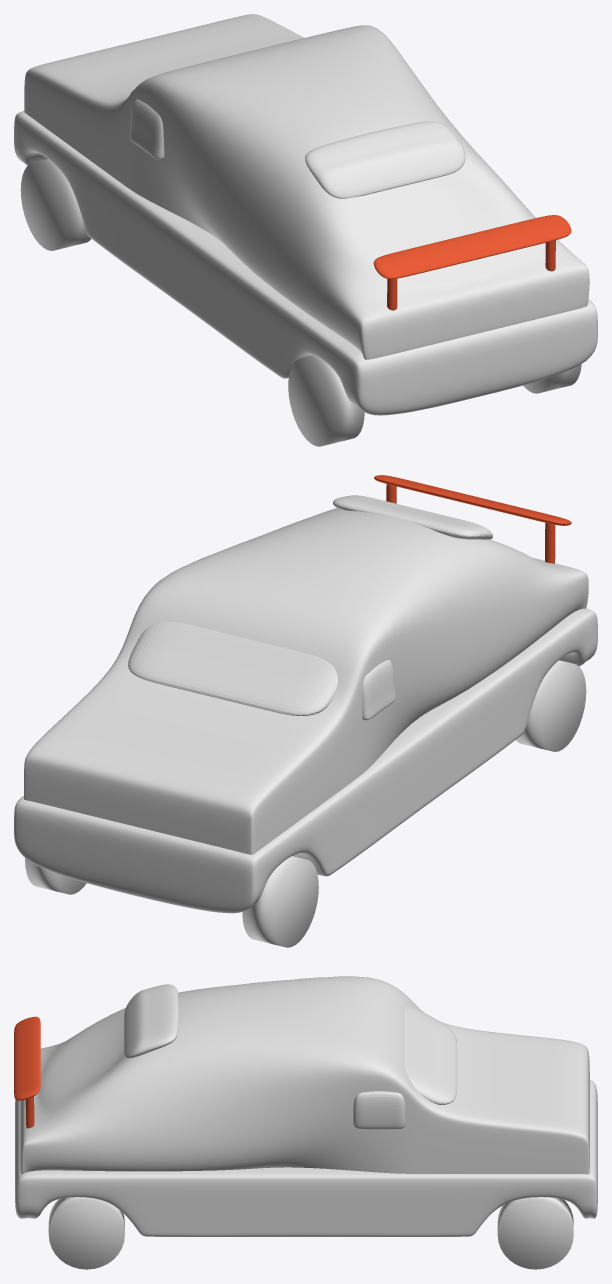
The model's file is Car3.fbx.
3 renders of one model, top to bottom at view 1: azimuth 30°, elevation 25°; view 2: azimuth 150°, elevation 25°; view 3: azimuth 270°, elevation 25°, orthographic. The views are drawn at different scales.
Visible parts, largest first — view 1: Cube, Cube.001, Cube.007, Cube.010, Cylinder.004, Cylinder.001, Cube.003, Cylinder.002; view 2: Cube, Cube.001, Cube.005, Cylinder.001, Cylinder.004, Cube.007, Cube.010, Cube.003, Cylinder.003; view 3: Cube, Cube.001, Cylinder.003, Cylinder.002, Cube.005, Cube.007, Cube.010, Cube.004.
Part boxes in pixels (x1=…): Cube: x1=24, y1=14, x2=589, y2=359; Cube.001: x1=14, y1=111, x2=597, y2=415; Cube.007: x1=305, y1=121, x2=465, y2=198; Cube.010: x1=373, y1=215, x2=571, y2=279; Cylinder.004: x1=288, y1=355, x2=364, y2=446; Cylinder.001: x1=20, y1=159, x2=91, y2=250; Cube.003: x1=129, y1=99, x2=164, y2=159; Cylinder.002: x1=523, y1=364, x2=581, y2=393; Cube: x1=24, y1=508, x2=588, y2=854; Cube.001: x1=14, y1=608, x2=597, y2=913; Cube.005: x1=128, y1=621, x2=337, y2=715; Cylinder.001: x1=242, y1=856, x2=318, y2=947; Cylinder.004: x1=516, y1=660, x2=586, y2=751; Cube.007: x1=333, y1=495, x2=492, y2=539; Cube.010: x1=374, y1=475, x2=571, y2=525; Cube.003: x1=362, y1=660, x2=395, y2=720; Cylinder.003: x1=25, y1=858, x2=86, y2=894; Cube: x1=20, y1=976, x2=589, y2=1174; Cube.001: x1=15, y1=1080, x2=597, y2=1236; Cylinder.003: x1=497, y1=1197, x2=573, y2=1269; Cylinder.002: x1=48, y1=1197, x2=124, y2=1269; Cube.005: x1=404, y1=1004, x2=456, y2=1104; Cube.007: x1=124, y1=984, x2=178, y2=1058; Cube.010: x1=14, y1=1016, x2=40, y2=1100; Cube.004: x1=353, y1=1091, x2=405, y2=1129.
Bounding box in the file's own units: 409 × 397 × 991.
